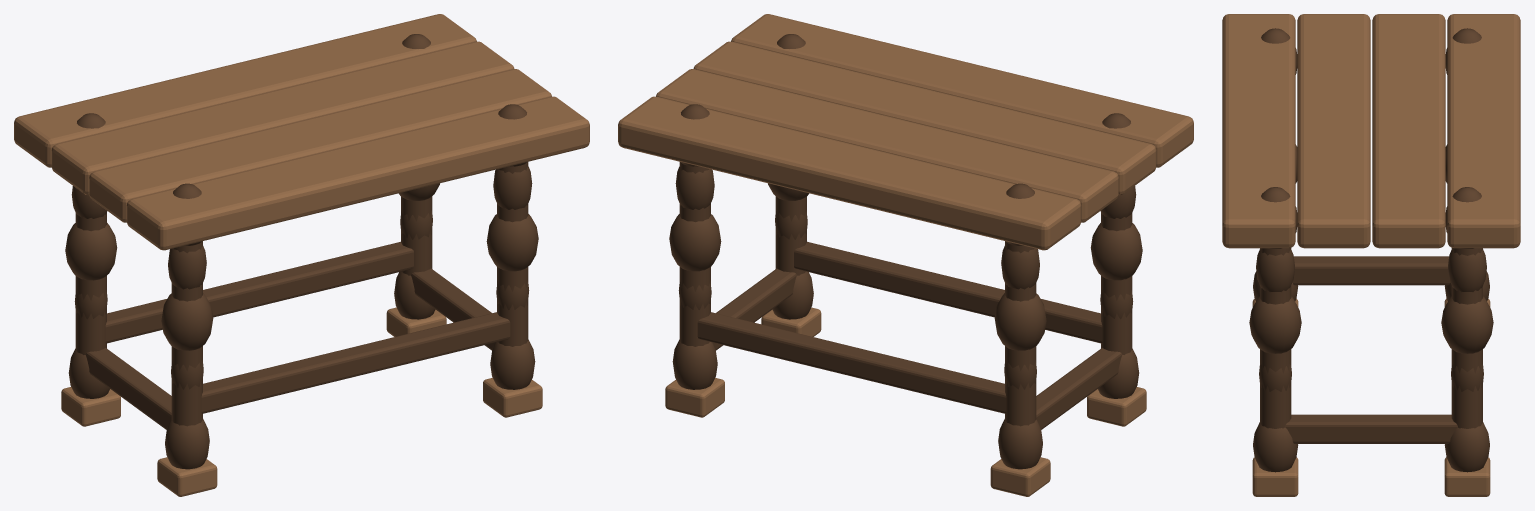
File: SM_HH_Q3_Table.fbx
The picture shows the model from 3 angles, left to right: view 1: azimuth 30°, elevation 25°; view 2: azimuth 150°, elevation 25°; view 3: azimuth 270°, elevation 25°; orthographic projection.
Parts seen in each view (by area): view 1: HH_Q3_Table; view 2: HH_Q3_Table; view 3: HH_Q3_Table.
Boxes of the visible parts, bbox=[...] form: HH_Q3_Table: bbox=[14, 14, 589, 496]; HH_Q3_Table: bbox=[618, 14, 1193, 496]; HH_Q3_Table: bbox=[1222, 14, 1520, 496].
Size of the model in its own units: 0.684 by 1.14 by 0.76.
